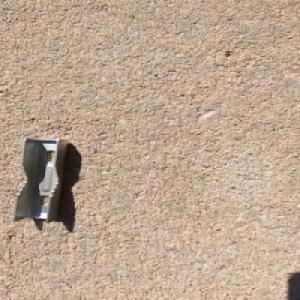ClampPart: (10, 137, 69, 225)
